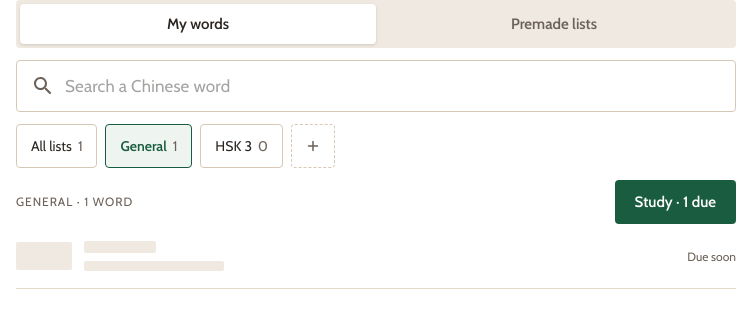
it: AddWords — the word rows › covers a word due soon until the learner taps it
The width and height of the screenshot is (753, 317).
Expected: the text "认识" is not shown
Expected: the text "to know" is not shown
Click the button with aria-label "Due soon. Show the word" at (44, 256), box [16,224,736,288]
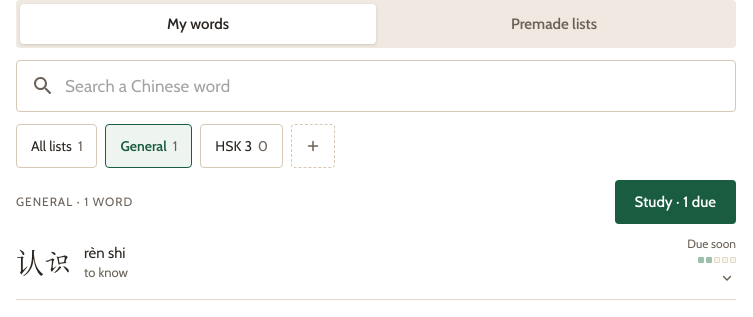
Now the text "认识" is shown, box [16,248,72,276]
Now the text "to know" is shown, box [84,264,128,280]
